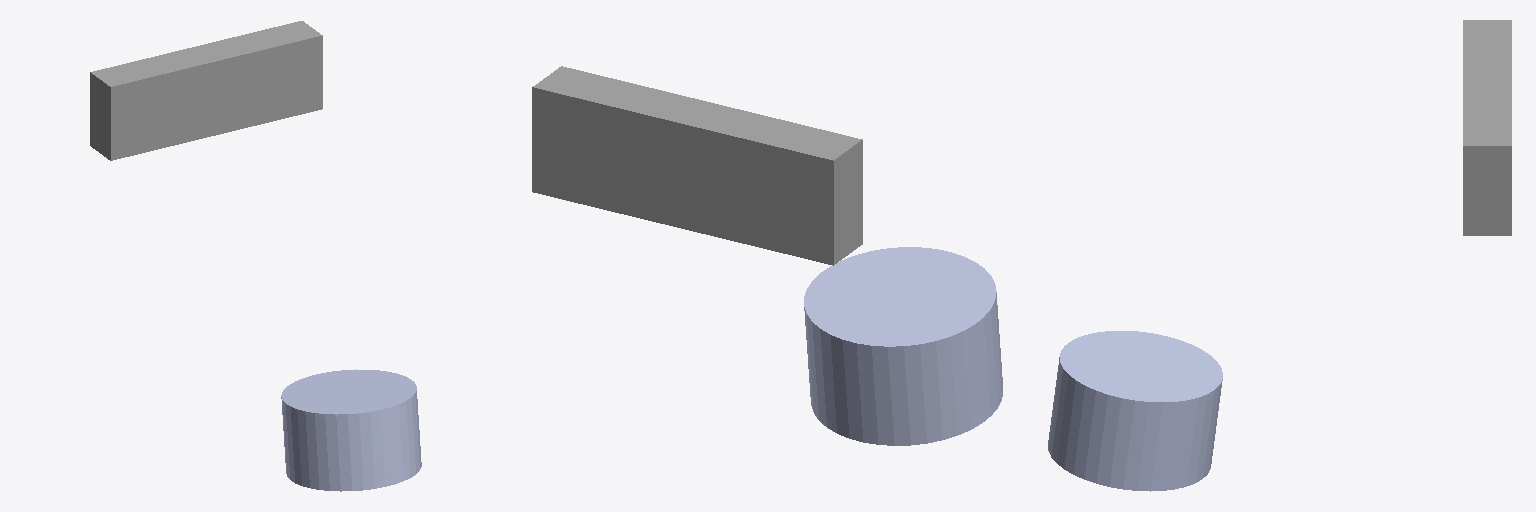
The robot description file, URDF, robot "robot.SLDASM":
<?xml version="1.0" encoding="utf-8"?>
<!-- This URDF was automatically created by SolidWorks to URDF Exporter! Originally created by [author] ([email redacted]) 
     Commit Version: 1.6.0-4-g7f85cfe  Build Version: 1.6.7995.38578
     For more information, please see http://wiki.ros.org/sw_urdf_exporter -->
<robot
  name="robot.SLDASM">
  <link
    name="body_link">
    <inertial>
      <origin
        xyz="-5.78747286987912E-18 -1.99476468222325E-17 -3.26787402490085E-19"
        rpy="0 0 0" />
      <mass
        value="0.972" />
      <inertia
        ixx="0.0026973"
        ixy="4.42614694895482E-20"
        ixz="2.52922682797419E-21"
        iyy="0.0003645"
        iyz="-2.53160123073193E-20"
        izz="0.002916" />
    </inertial>
    <visual>
      <origin
        xyz="0 0 0"
        rpy="0 0 0" />
      <geometry>
        <mesh
          filename="package://robot.SLDASM/meshes/body_link.STL" />
      </geometry>
      <material
        name="">
        <color
          rgba="0.698039215686274 0.698039215686274 0.698039215686274 1" />
      </material>
    </visual>
    <collision>
      <origin
        xyz="0 0 0"
        rpy="0 0 0" />
      <geometry>
        <mesh
          filename="package://robot.SLDASM/meshes/body_link.STL" />
      </geometry>
    </collision>
  </link>
  <link
    name="rob_link">
    <inertial>
      <origin
        xyz="-3.8548E-18 3.7798E-18 -1.3878E-17"
        rpy="0 0 0" />
      <mass
        value="0.24" />
      <inertia
        ixx="0.000808"
        ixy="-3.9104E-21"
        ixz="-3.2255E-20"
        iyy="0.000872"
        iyz="-2.4668E-20"
        izz="8E-05" />
    </inertial>
    <visual>
      <origin
        xyz="0 0 0"
        rpy="0 0 0" />
      <geometry>
        <mesh
          filename="package://robot.SLDASM/meshes/rob_link.STL" />
      </geometry>
      <material
        name="">
        <color
          rgba="0.79216 0.81961 0.93333 1" />
      </material>
    </visual>
    <collision>
      <origin
        xyz="0 0 0"
        rpy="0 0 0" />
      <geometry>
        <mesh
          filename="package://robot.SLDASM/meshes/rob_link.STL" />
      </geometry>
    </collision>
  </link>
  <joint
    name="rob_joint"
    type="continuous">
    <origin
      xyz="0 0 -0.115"
      rpy="0 0 0" />
    <parent
      link="body_link" />
    <child
      link="rob_link" />
    <axis
      xyz="-1 0 0" />
  </joint>
  <link
    name="wheel_Link">
    <inertial>
      <origin
        xyz="-2.7863E-18 0 0"
        rpy="0 0 0" />
      <mass
        value="0.47124" />
      <inertia
        ixx="0.00058905"
        ixy="-6.1373E-23"
        ixz="6.3766E-22"
        iyy="0.0004359"
        iyz="1.0164E-20"
        izz="0.0004359" />
    </inertial>
    <visual>
      <origin
        xyz="0 0 0"
        rpy="0 0 0" />
      <geometry>
        <mesh
          filename="package://robot.SLDASM/meshes/wheel_Link.STL" />
      </geometry>
      <material
        name="">
        <color
          rgba="0.79216 0.81961 0.93333 1" />
      </material>
    </visual>
    <collision>
      <origin
        xyz="0 0 0"
        rpy="0 0 0" />
      <geometry>
        <mesh
          filename="package://robot.SLDASM/meshes/wheel_Link.STL" />
      </geometry>
    </collision>
  </link>
  <joint
    name="wheel_joint"
    type="continuous">
    <origin
      xyz="0 0 -0.1"
      rpy="-0.11947 0 0" />
    <parent
      link="rob_link" />
    <child
      link="wheel_Link" />
    <axis
      xyz="-1 0 0" />
  </joint>
</robot>

--- Facts derived from the render (not from the file) ---
3 views of the same robot in one strip: view 1: azimuth 30°, elevation 25°; view 2: azimuth 150°, elevation 25°; view 3: azimuth 270°, elevation 25° (orthographic).
Robot: robot.SLDASM — 3 links, 2 joints (2 continuous); root link body_link; default pose: all joints at 0.
Links seen in each view (by area): view 1: body_link, wheel_Link; view 2: body_link, wheel_Link; view 3: wheel_Link, body_link.
Boxes of the visible links, <box> form: body_link: <box>90,21,322,160</box>; wheel_Link: <box>281,369,421,491</box>; body_link: <box>532,66,862,265</box>; wheel_Link: <box>804,247,1002,445</box>; wheel_Link: <box>1048,331,1222,491</box>; body_link: <box>1463,20,1511,235</box>.
Size in the robot's own frame: 0.18 by 0.2817 by 0.2551 metres.
2 mesh visuals loaded from 3 distinct referenced files (2 binary STL); not drawn: 1 (reference not matched to a file when rendering).